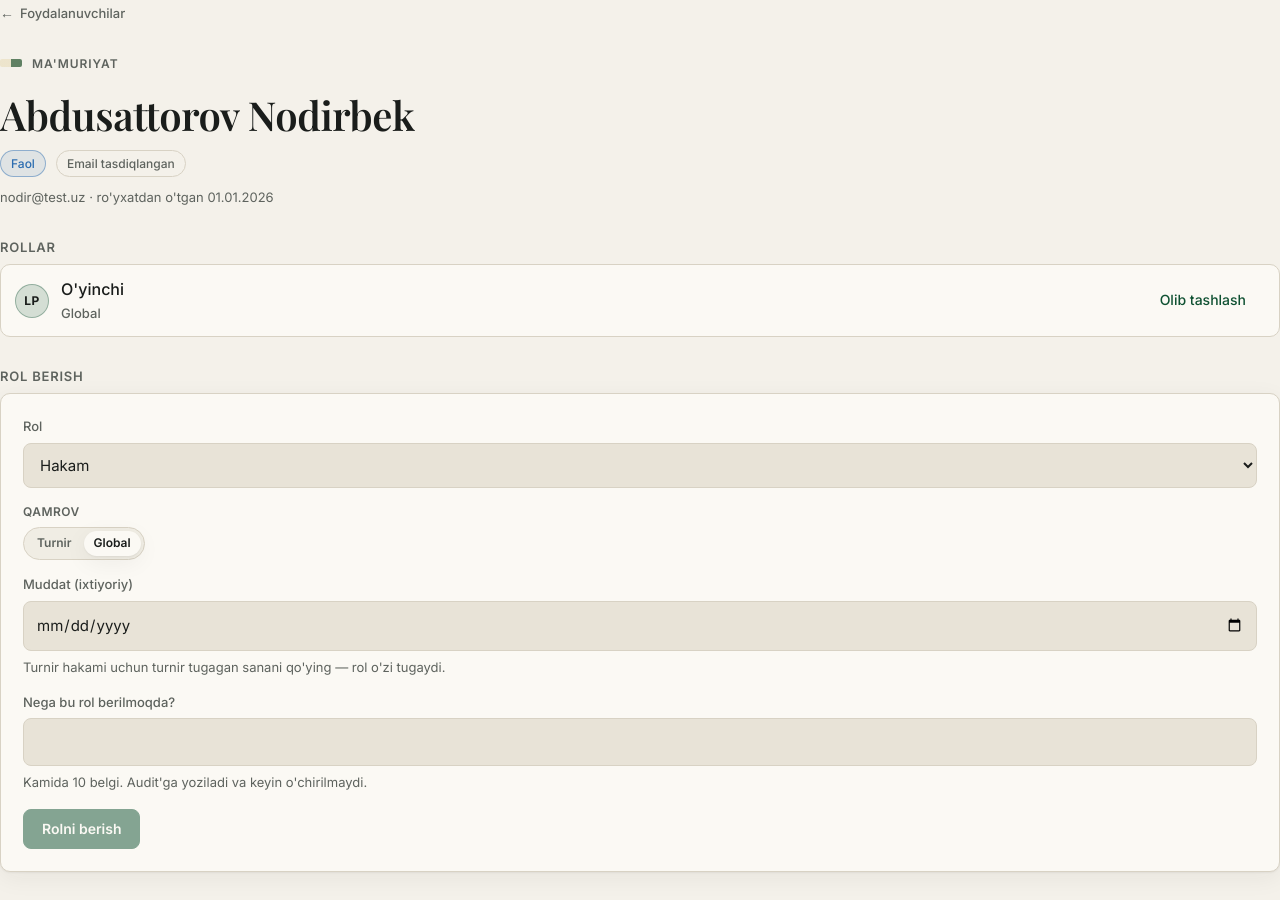
Scenario: ma`muriy foydalanuvchi sahifasi › server rad etsa SABAB ko`rsatiladi
Check: the button "Rolni berish" is shown, box [23,809,140,849]
Step 1. Type "Bahorgi chempionat uchun hakam sifatida tayinlanmoqda" into the field labelled "Nega bu rol berilmoqda?" → (640, 742), box [23,718,1257,766]
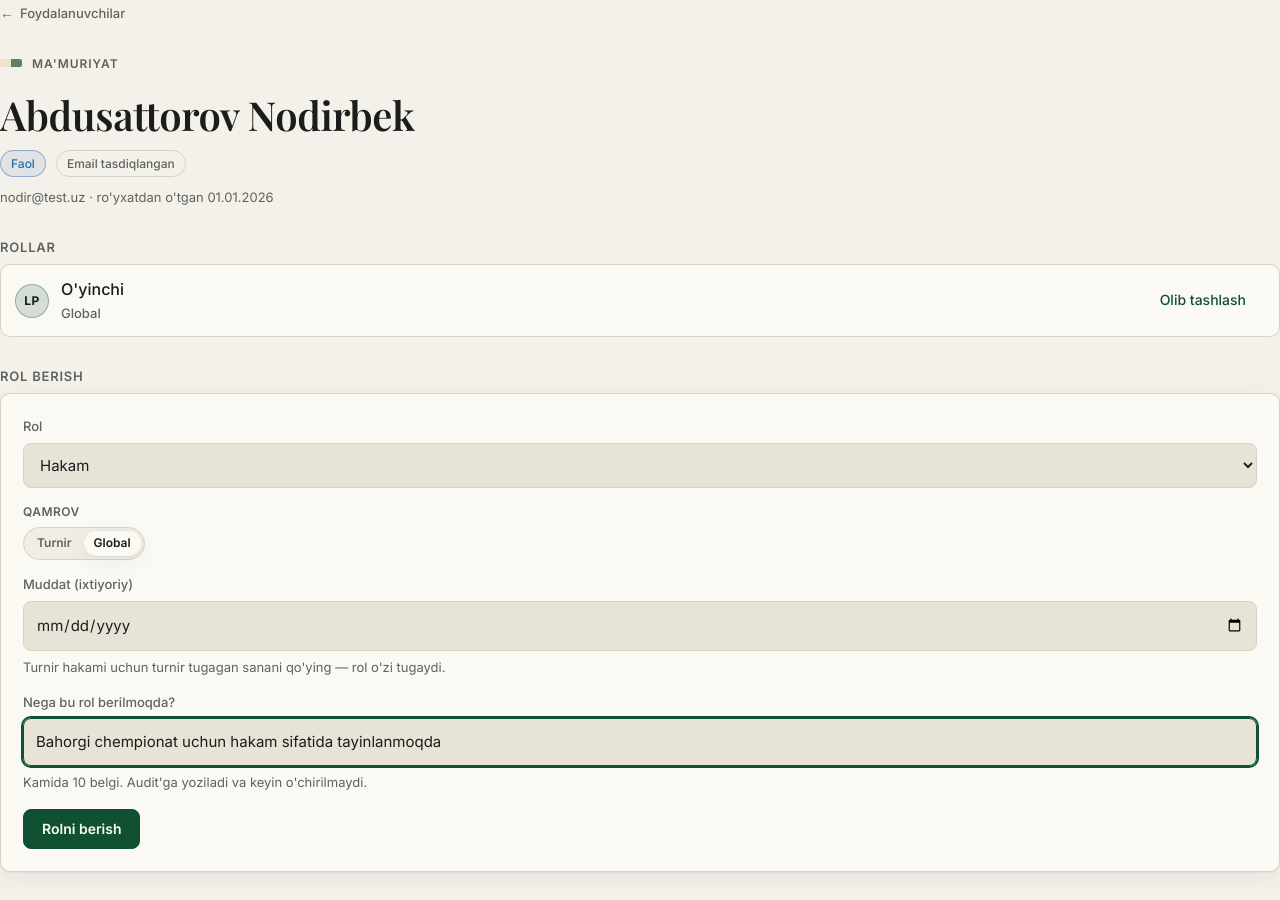
Step 2. Click the button "Rolni berish" → (82, 829), box [23,809,140,849]
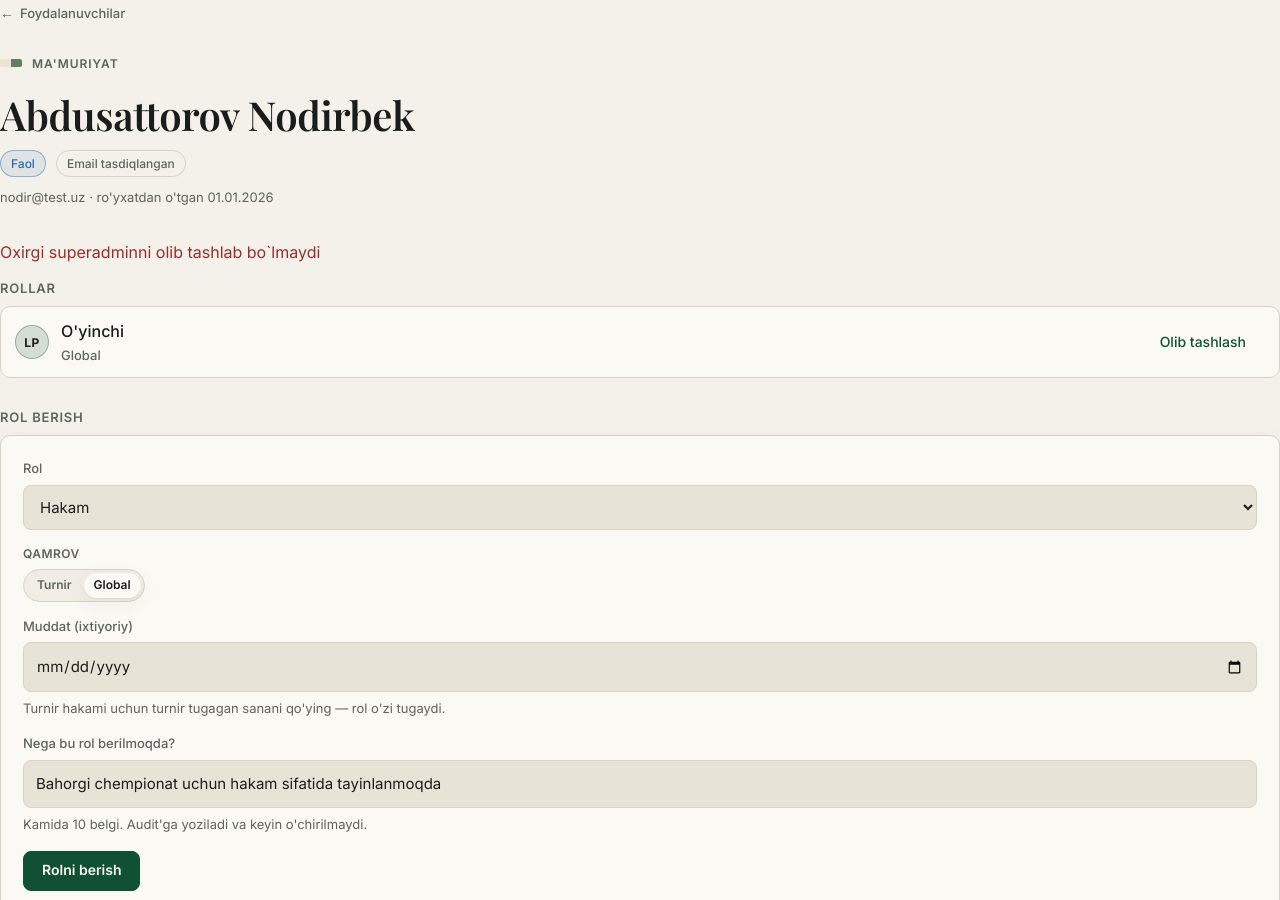
Check: the message shows "Oxirgi superadmin", box [0,242,320,262]
